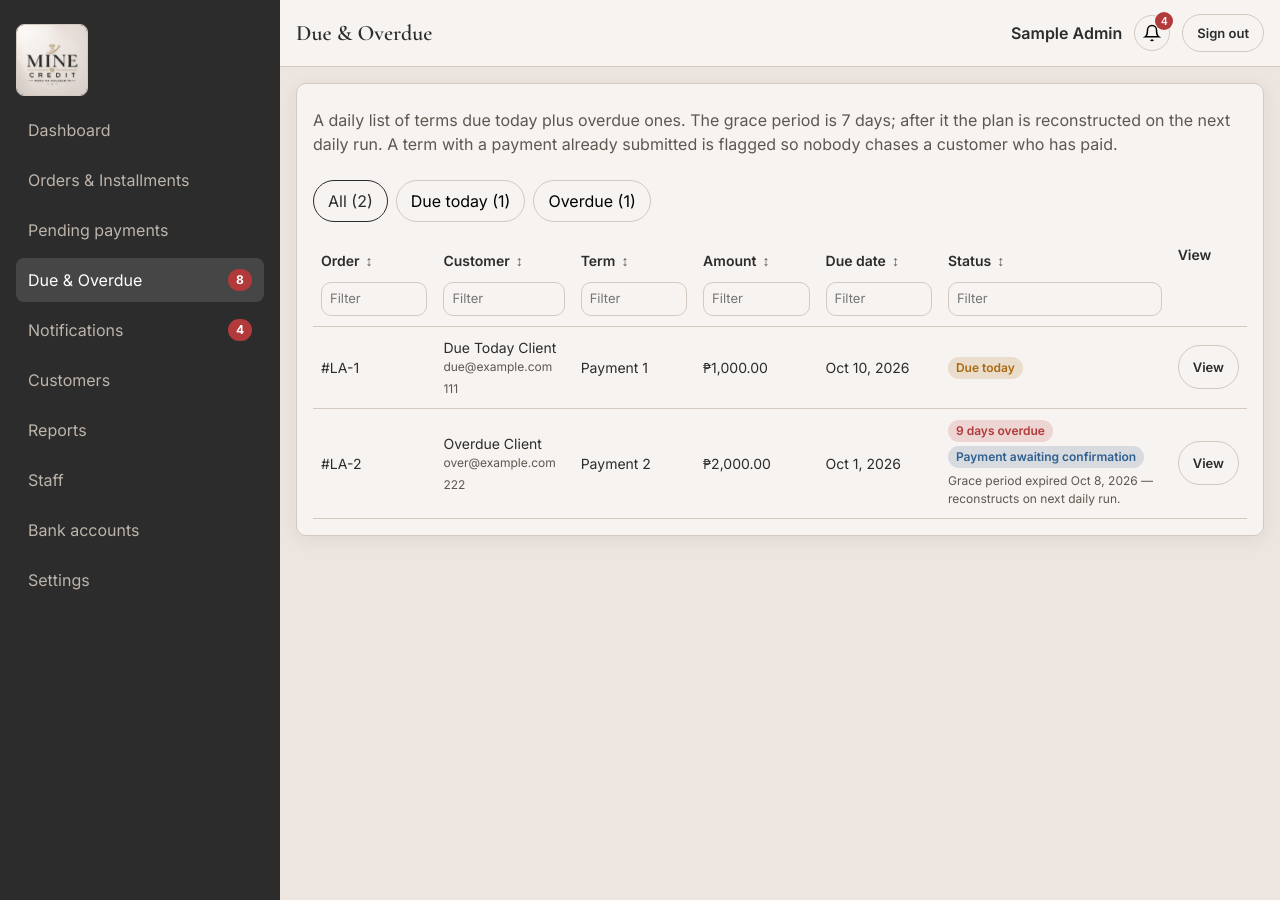
Test: DuePayments › filters due-today and overdue rows and opens a summary dialog
The image size is (1280, 900).
Expected: the text "Due Today Client" is shown, [443,336,565,358]
Expected: the text "Overdue Client" is shown, [443,434,542,452]
Click the button "Due today (1)" at [461, 201], box [396,180,525,222]
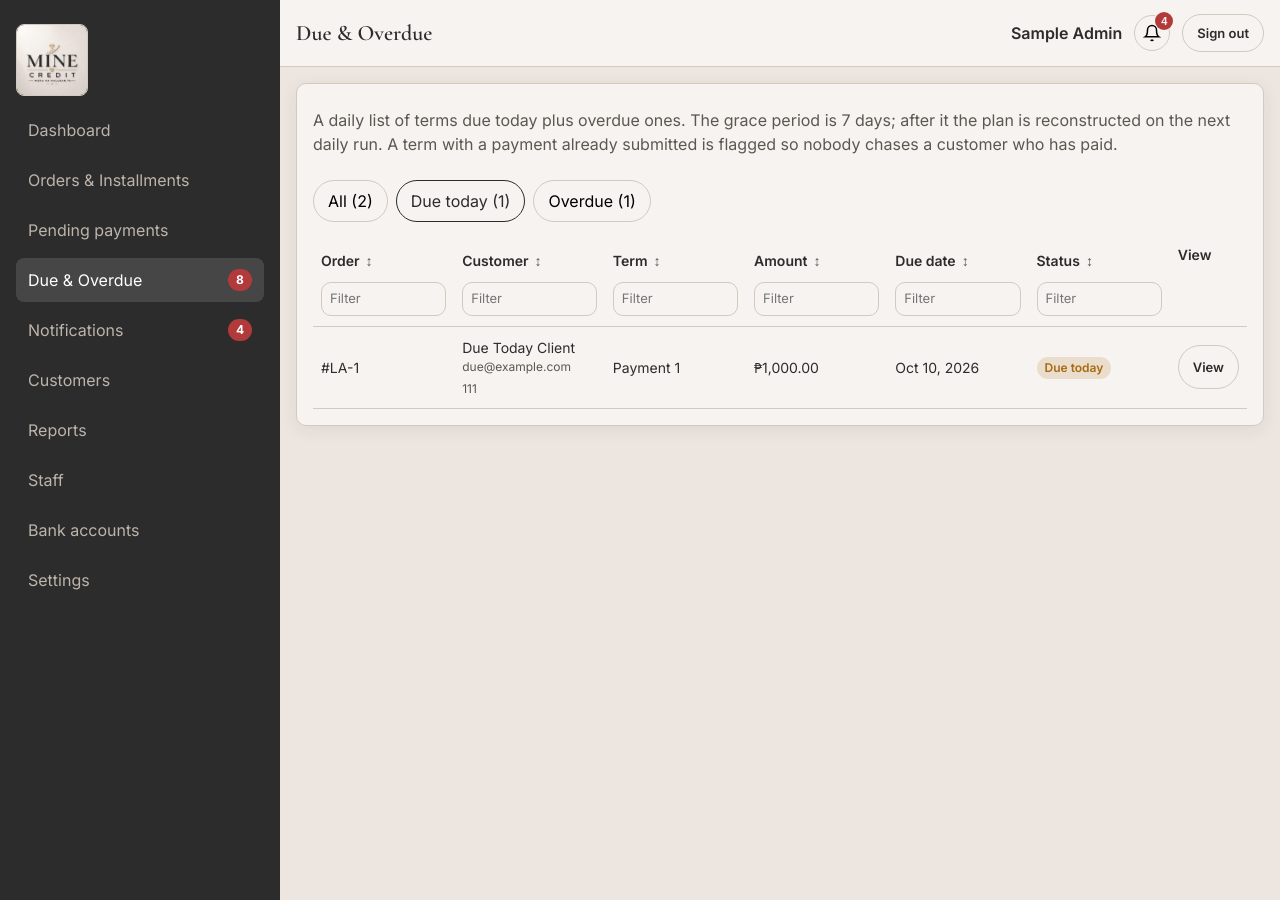
Expected: the text "Due Today Client" is shown, [462,338,575,356]
Expected: the text "Overdue Client" is gone
Click the button "Overdue (1)" at [592, 201], box [534,180,651,222]
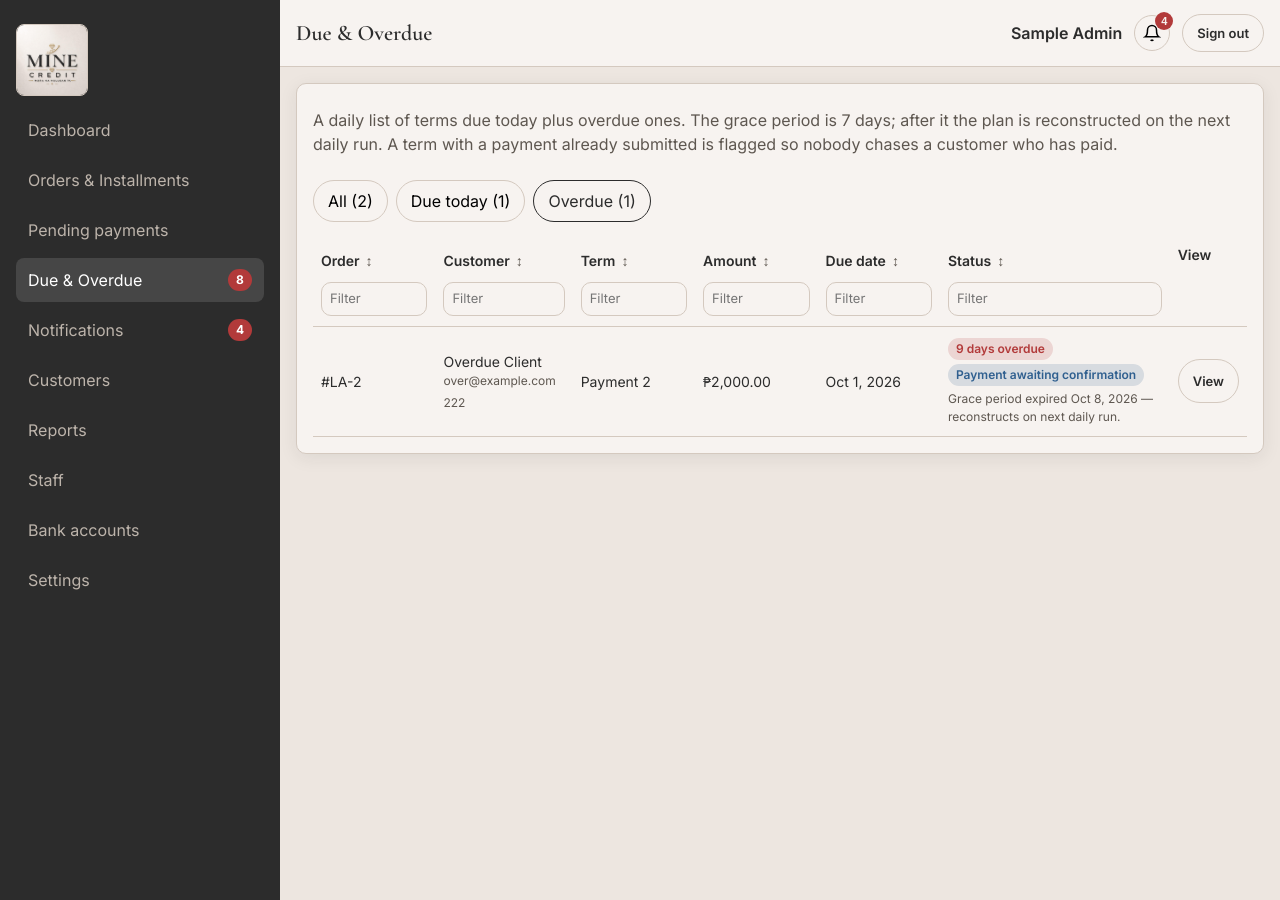
Expected: the text "Overdue Client" is shown, [443,352,542,370]
Expected: the text "9 days overdue" is shown, [948,338,1053,360]
Expected: the text "Payment awaiting confirmation" is shown, [948,364,1144,386]
Click the button "View" at [1208, 381], box [1178,359,1239,403]
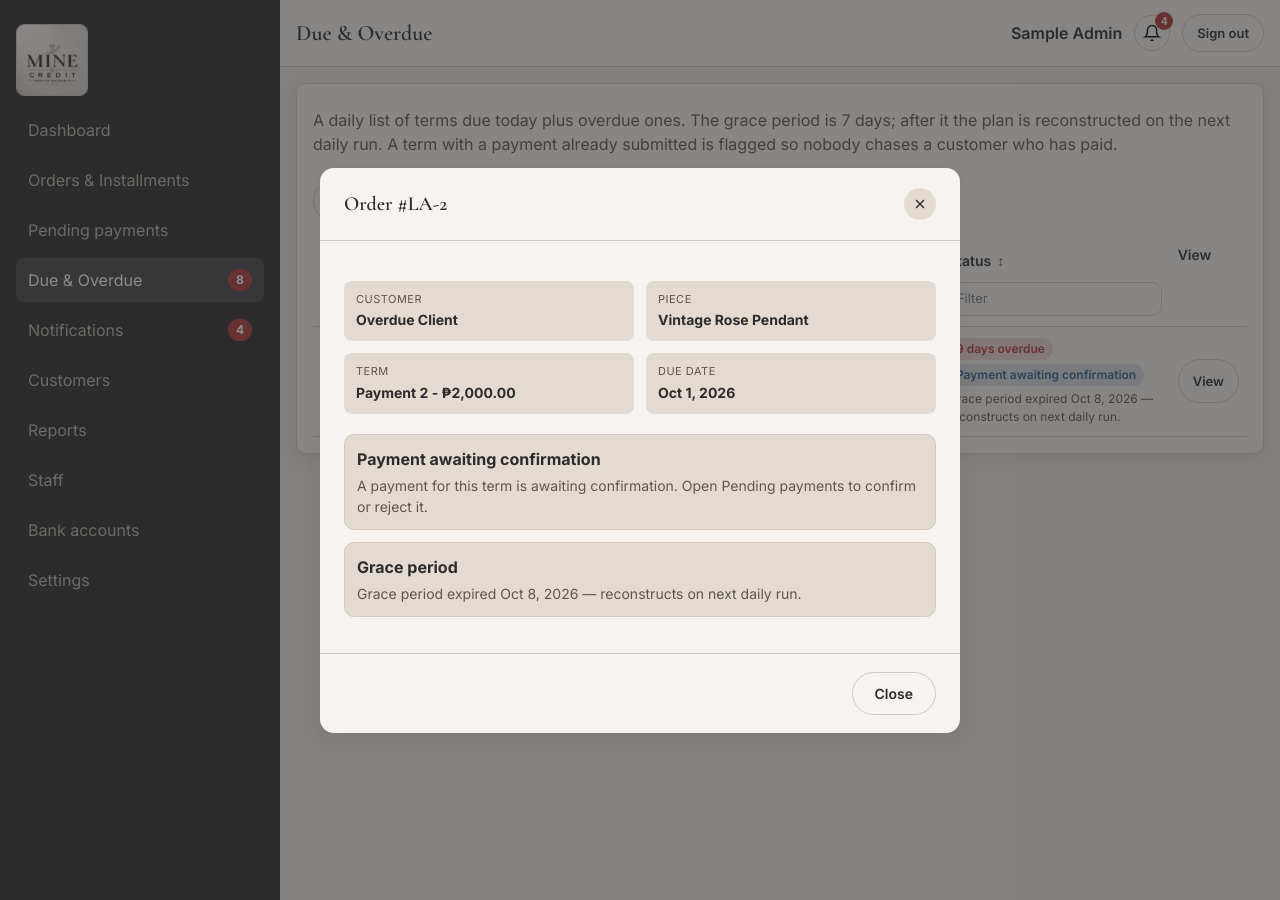
Expected: the text "Overdue Client" is shown, [356,311,458,328]
Expected: the text "Vintage Rose Pendant" is shown, [658,311,809,328]
Expected: the text "Payment 2 - ₱2,000.00" is shown, [356,384,516,400]
